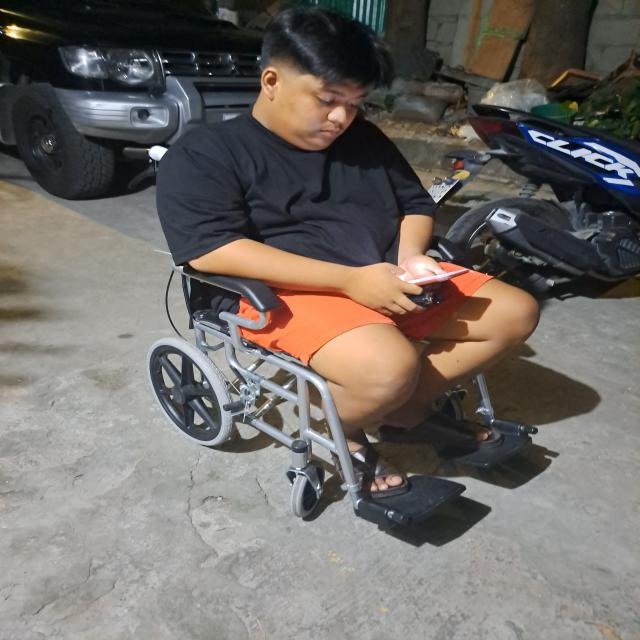wheelchairs: (132, 138, 558, 541)
